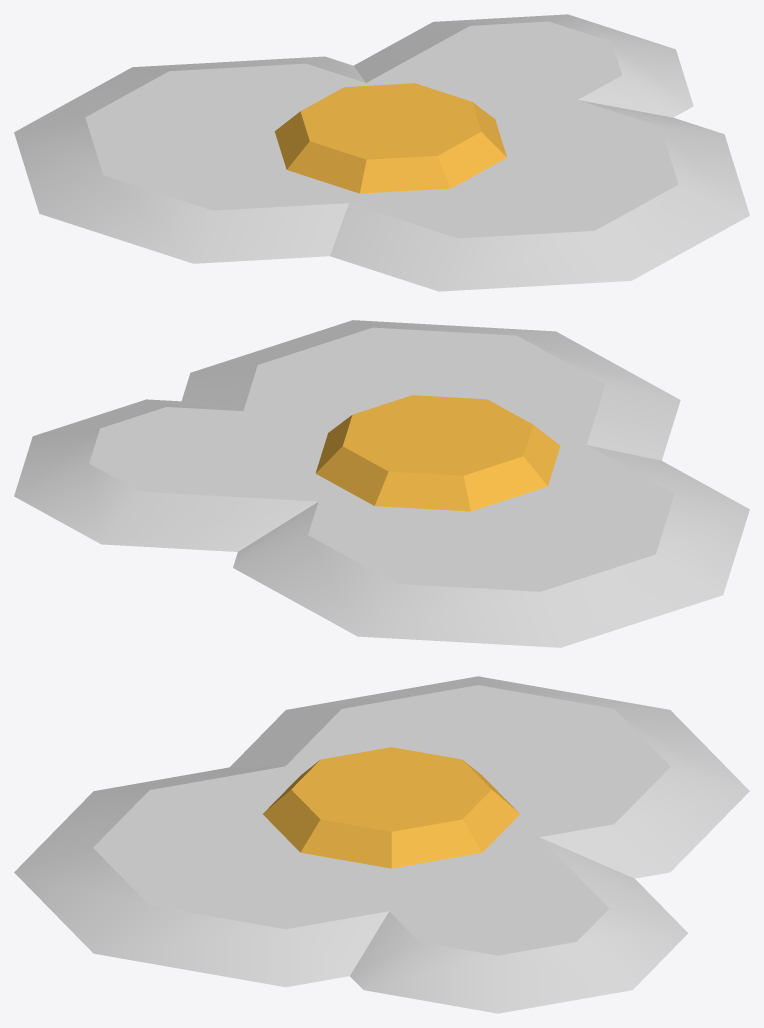
The model's file is eggCooked.dae.
3 renders of one model, top to bottom at view 1: azimuth 30°, elevation 25°; view 2: azimuth 150°, elevation 25°; view 3: azimuth 270°, elevation 25°, orthographic. The views are drawn at different scales.
Parts seen in each view (by area): view 1: eggCooked; view 2: eggCooked; view 3: eggCooked.
Part boxes in pixels (bbox=[...]): eggCooked: bbox=[14, 14, 749, 291]; eggCooked: bbox=[14, 320, 749, 647]; eggCooked: bbox=[14, 676, 749, 1013].
Bounding box in the file's own units: 0.4141 × 0.0282 × 0.3817.
